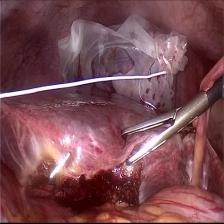Grasper: (113, 91, 206, 173)
Specimen Bag: (56, 9, 189, 115)
